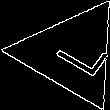L_NW: (38, 26, 104, 80)
